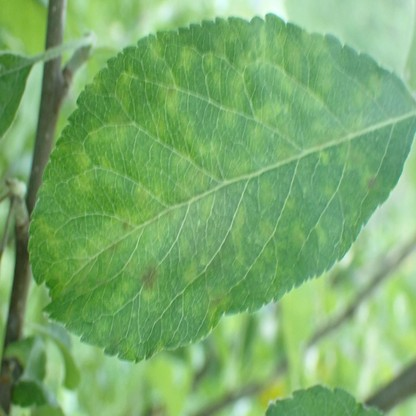scab: (37, 29, 384, 358)
